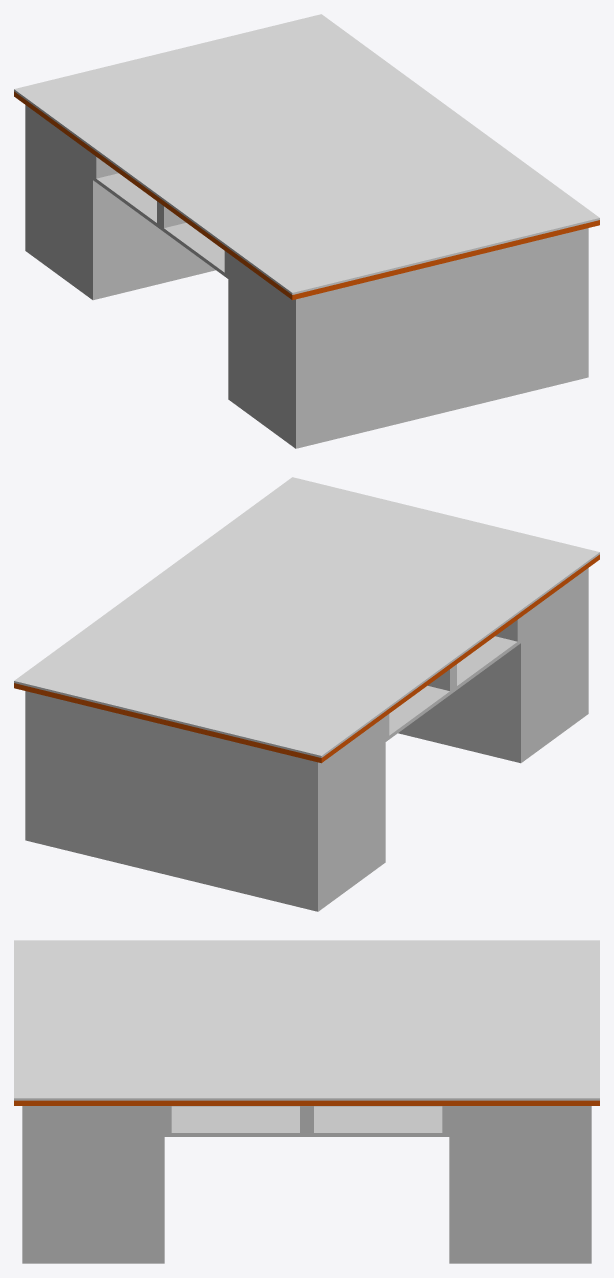
The model's file is ScienceTable.fbx.
The picture shows the model from 3 angles, top to bottom: view 1: azimuth 30°, elevation 25°; view 2: azimuth 150°, elevation 25°; view 3: azimuth 270°, elevation 25°; orthographic projection. The views are drawn at different scales.
Visible parts, largest first — view 1: Top, Table; view 2: Top, Table; view 3: Top, Table.
Part boxes in pixels (x1,y1,x2,y2): Top: (14,14,599,300); Table: (25,105,588,448); Top: (14,477,599,763); Table: (25,568,588,911); Top: (14,940,599,1105); Table: (22,1106,591,1263).
Bounding box in the file's own units: 105 × 52.39 × 165.
